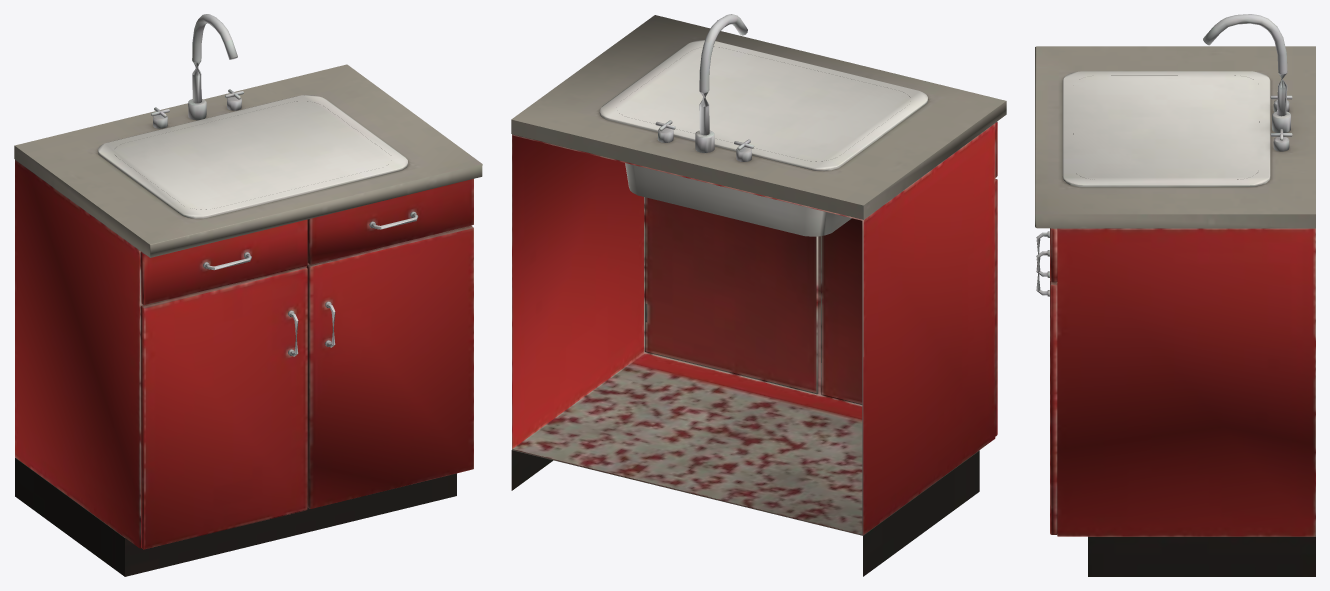
File: kit_sink_90_red-low.glb
The picture shows the model from 3 angles, left to right: view 1: azimuth 30°, elevation 25°; view 2: azimuth 150°, elevation 25°; view 3: azimuth 270°, elevation 25°; orthographic projection. The views are drawn at different scales.
Parts seen in each view (by area): view 1: kit_sink_90_red-low; view 2: kit_sink_90_red-low; view 3: kit_sink_90_red-low.
Part boxes in pixels (x1,y1,x2,y2): kit_sink_90_red-low: (14, 14, 482, 576); kit_sink_90_red-low: (511, 14, 1006, 576); kit_sink_90_red-low: (1035, 14, 1315, 576).
Bounding box in the file's own units: 0.8981 × 1.19 × 0.6344.
Materials: 1 (1 with a texture image).
